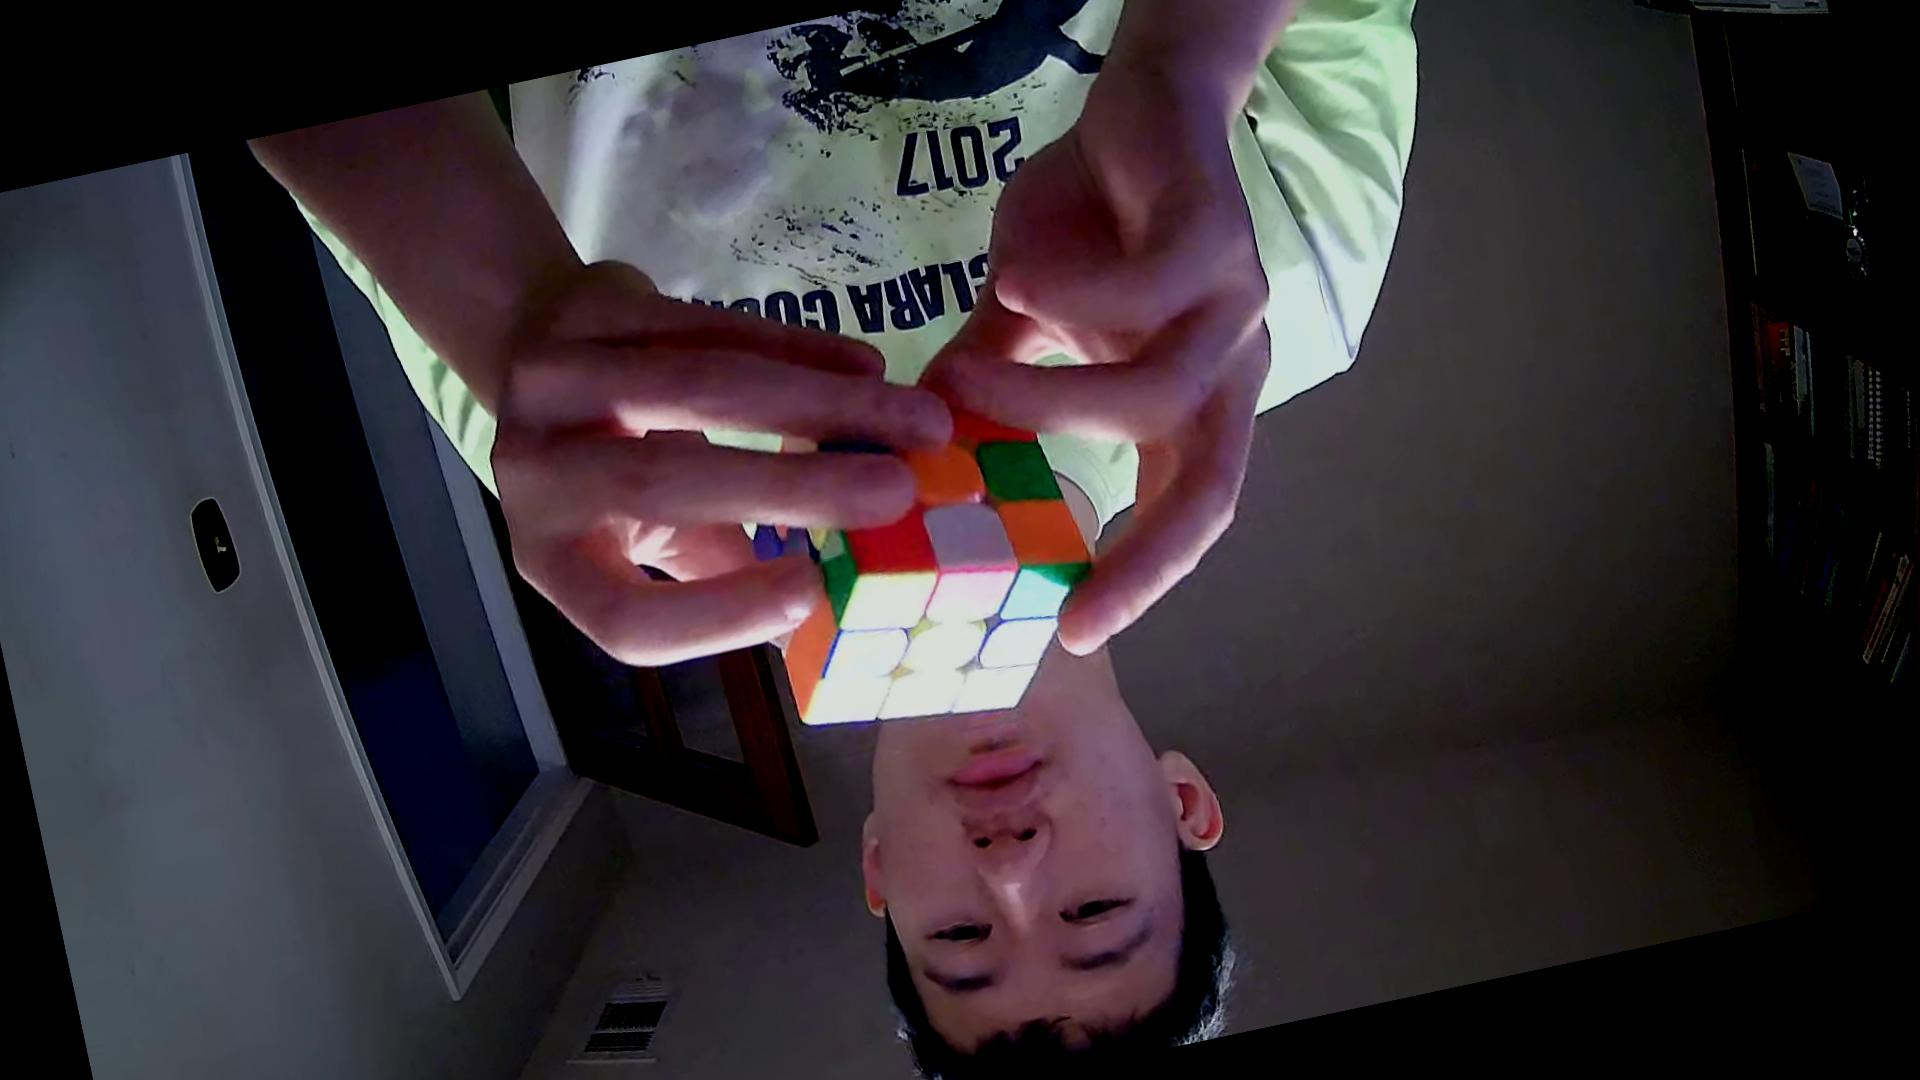Rubiks-Cube: (705, 352, 1134, 767)
